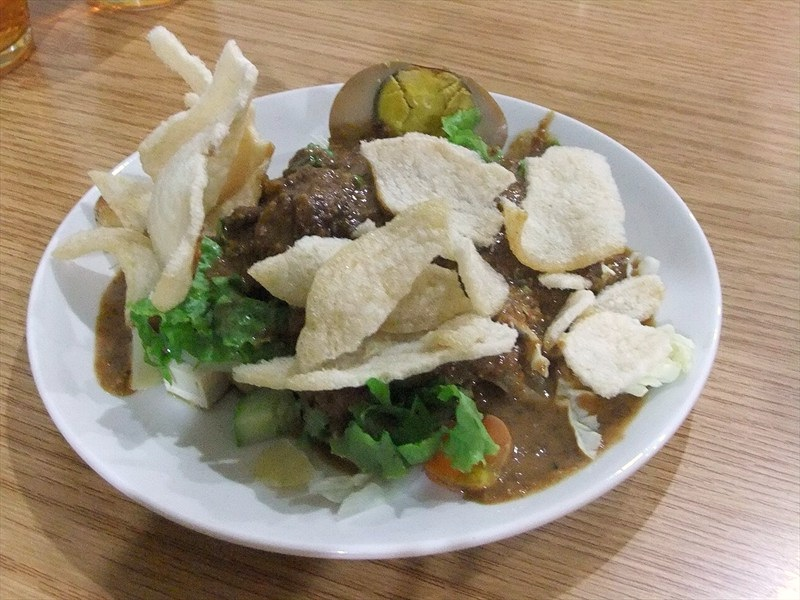Gado-Gado: (77, 109, 668, 566)
